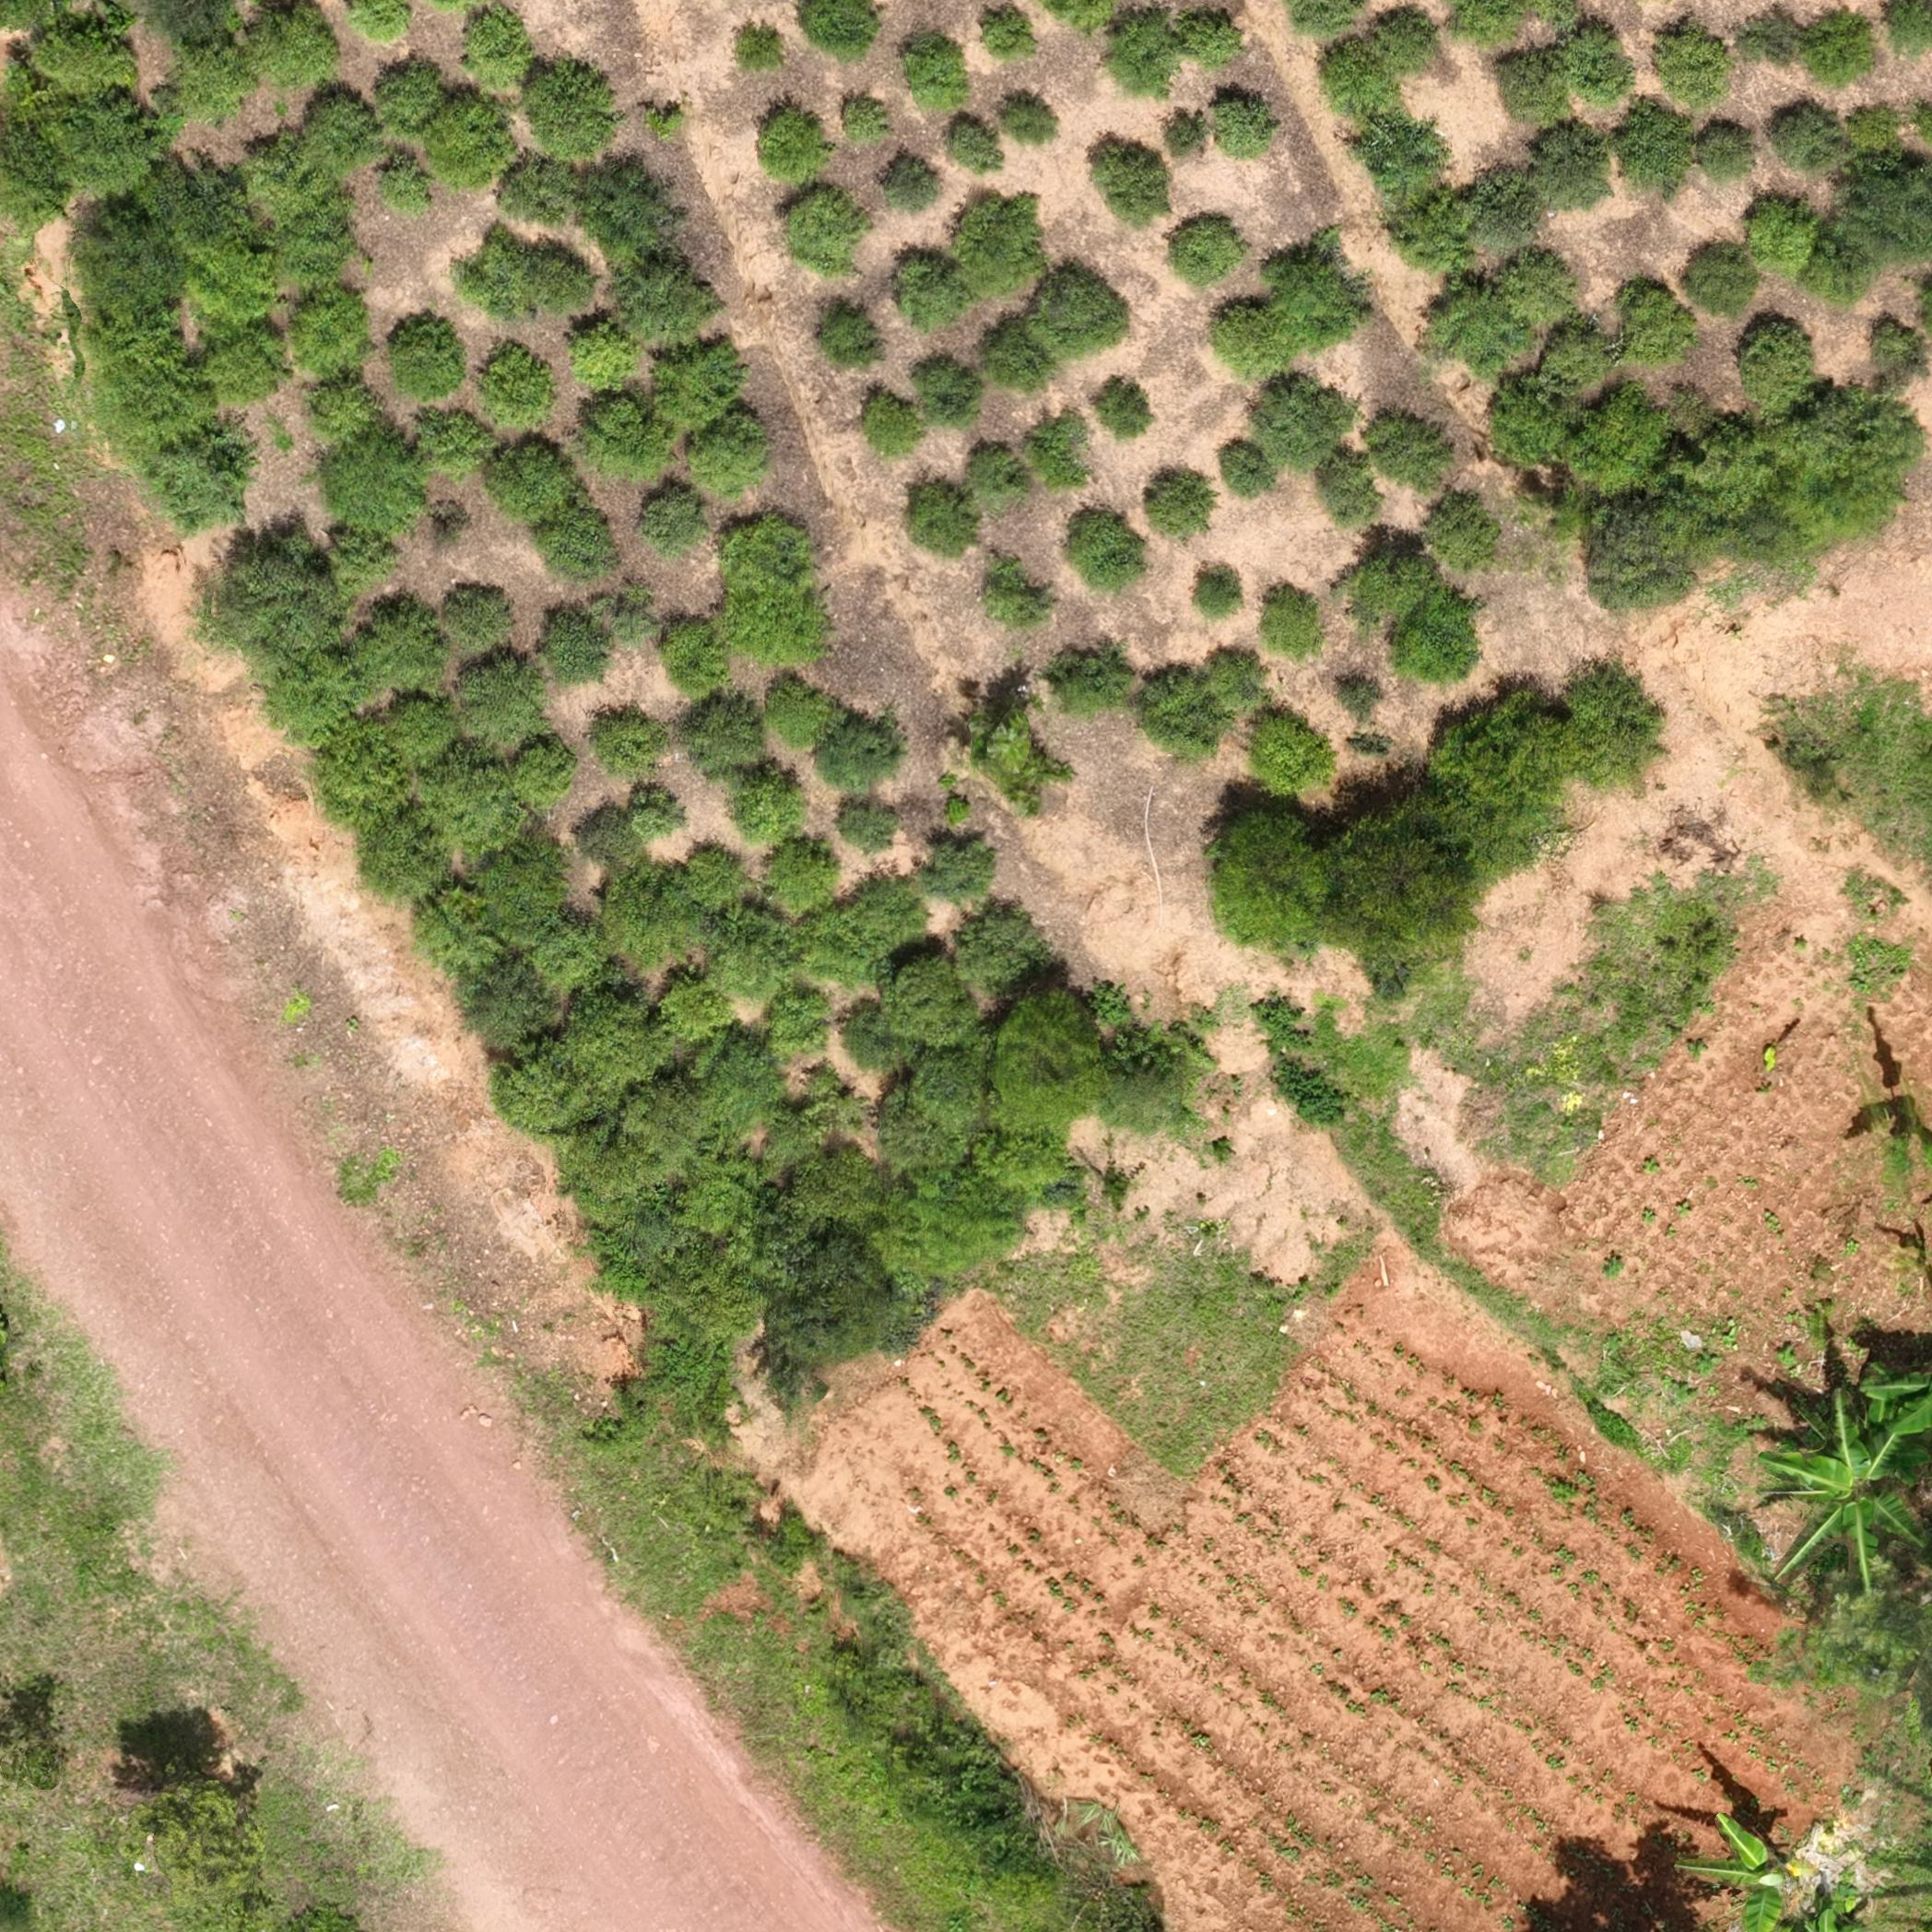Banana: (1737, 1346, 1907, 1598), (1663, 1803, 1810, 1927), (1858, 1361, 1930, 1435), (1813, 1881, 1872, 1930)
